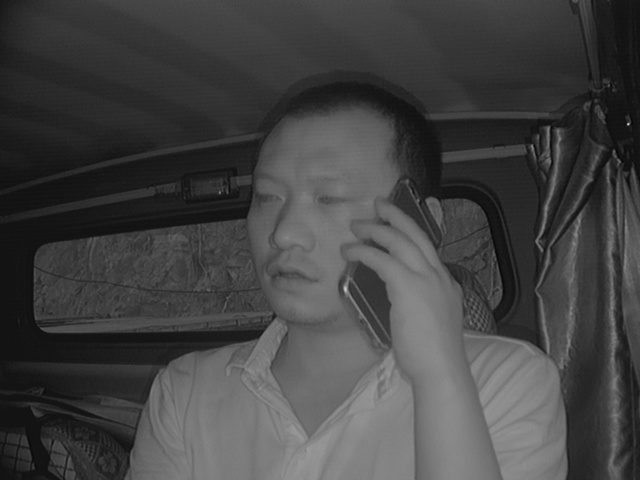hand: (346, 196, 465, 361)
